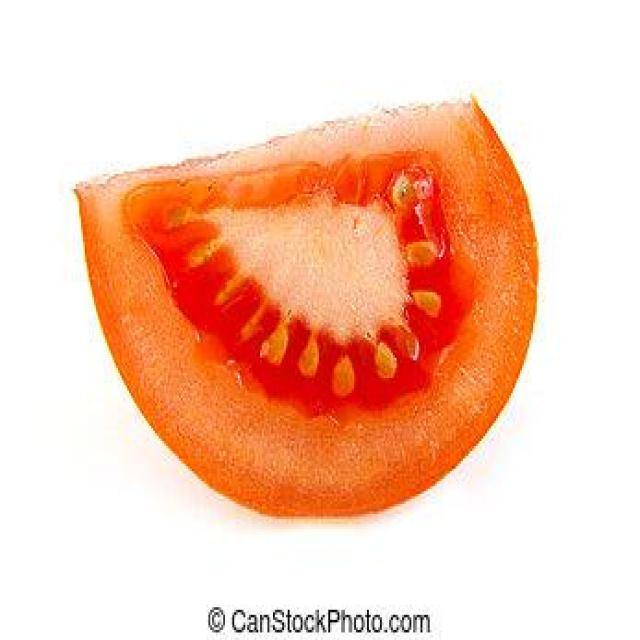Tomato: (75, 104, 540, 518)
